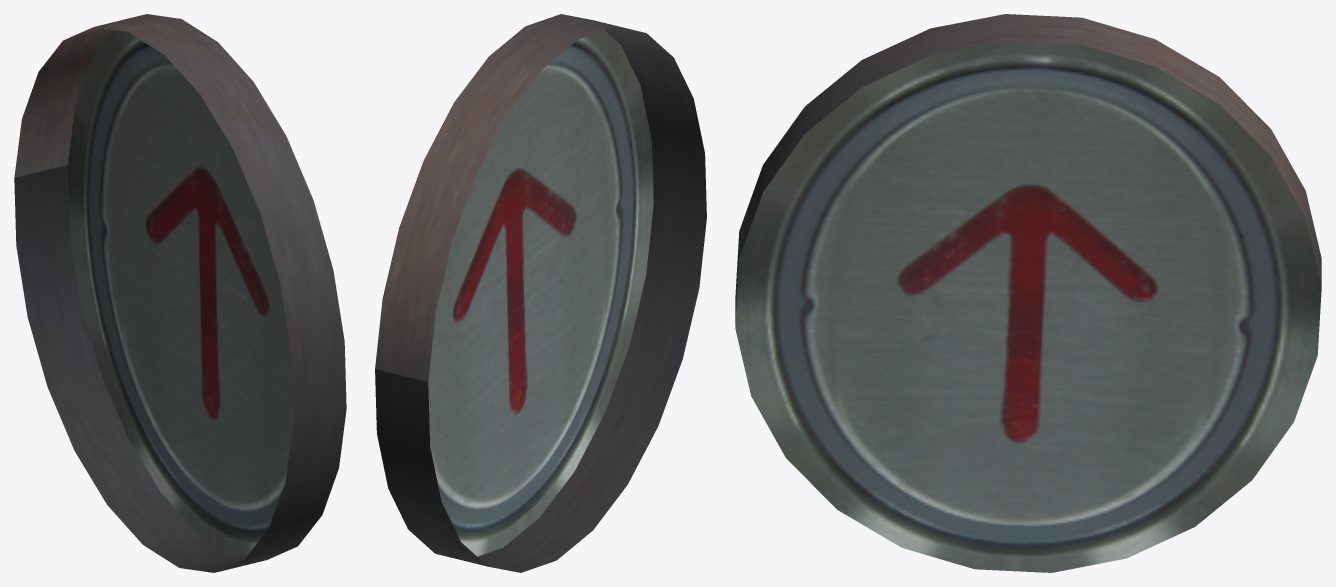
File: Elev_Up_Btn.fbx
3 renders of one model, left to right at view 1: azimuth 30°, elevation 25°; view 2: azimuth 150°, elevation 25°; view 3: azimuth 270°, elevation 25°, orthographic. The views are drawn at different scales.
Visible parts, largest first — view 1: Cylinder (34); view 2: Cylinder (34); view 3: Cylinder (34).
Part boxes in pixels (x1,y1,x2,y2): Cylinder (34): (14,14,346,572); Cylinder (34): (375,14,706,572); Cylinder (34): (735,14,1321,572).
Bounding box in the file's own units: 0.5016 × 4.55 × 4.55.
